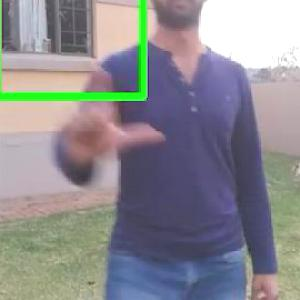land_hand: (60, 57, 163, 173)
